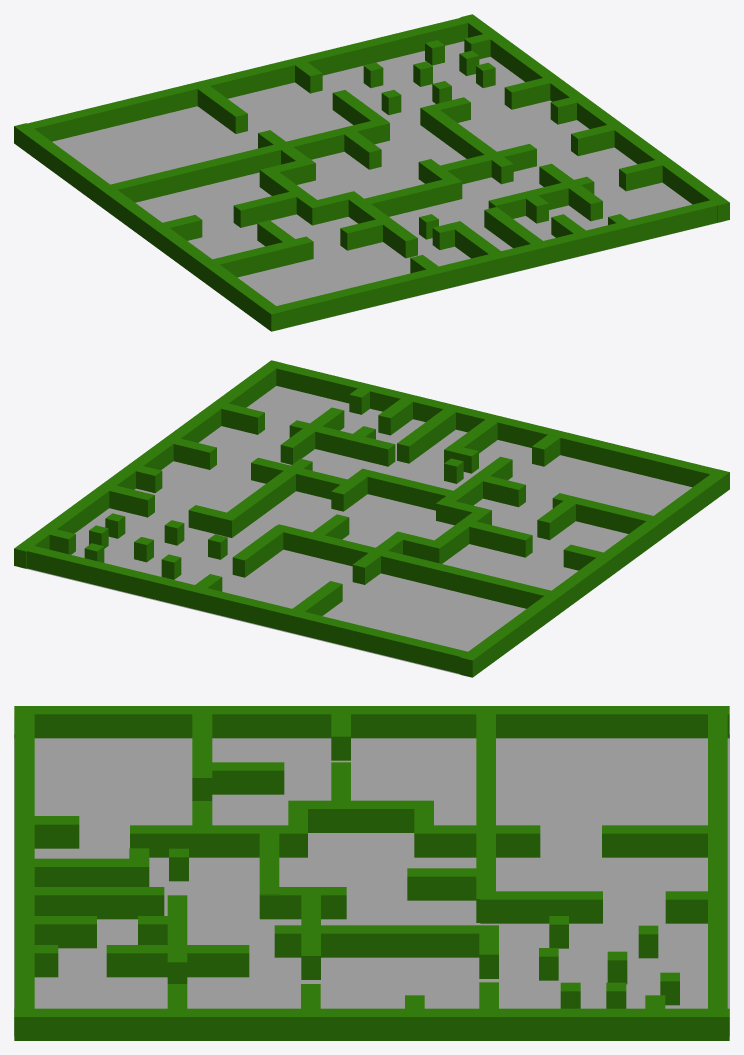
File: level1.fbx
The picture shows the model from 3 angles, top to bottom: view 1: azimuth 30°, elevation 25°; view 2: azimuth 150°, elevation 25°; view 3: azimuth 270°, elevation 25°; orthographic projection. The views are drawn at different scales.
Visible parts, largest first — view 1: walls, floor; view 2: walls, floor; view 3: walls, floor.
Part boxes in pixels (bbox=[...]): walls: bbox=[14, 14, 729, 331]; floor: bbox=[52, 41, 723, 330]; walls: bbox=[14, 360, 729, 677]; floor: bbox=[20, 386, 692, 676]; walls: bbox=[14, 706, 729, 1040]; floor: bbox=[14, 734, 729, 1036].
Bounding box in the file's own units: 51.38 × 1.85 × 50.
